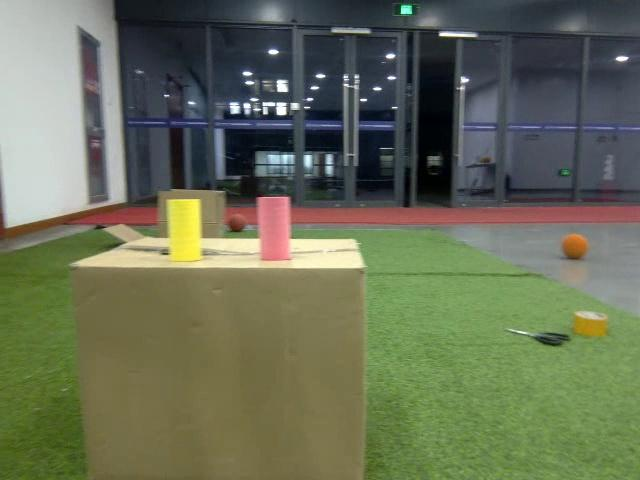orange_ball: (561, 234, 590, 259)
red_ball: (228, 212, 248, 231)
red_cylinder: (257, 194, 296, 261)
yellow_cylinder: (163, 197, 206, 262)
